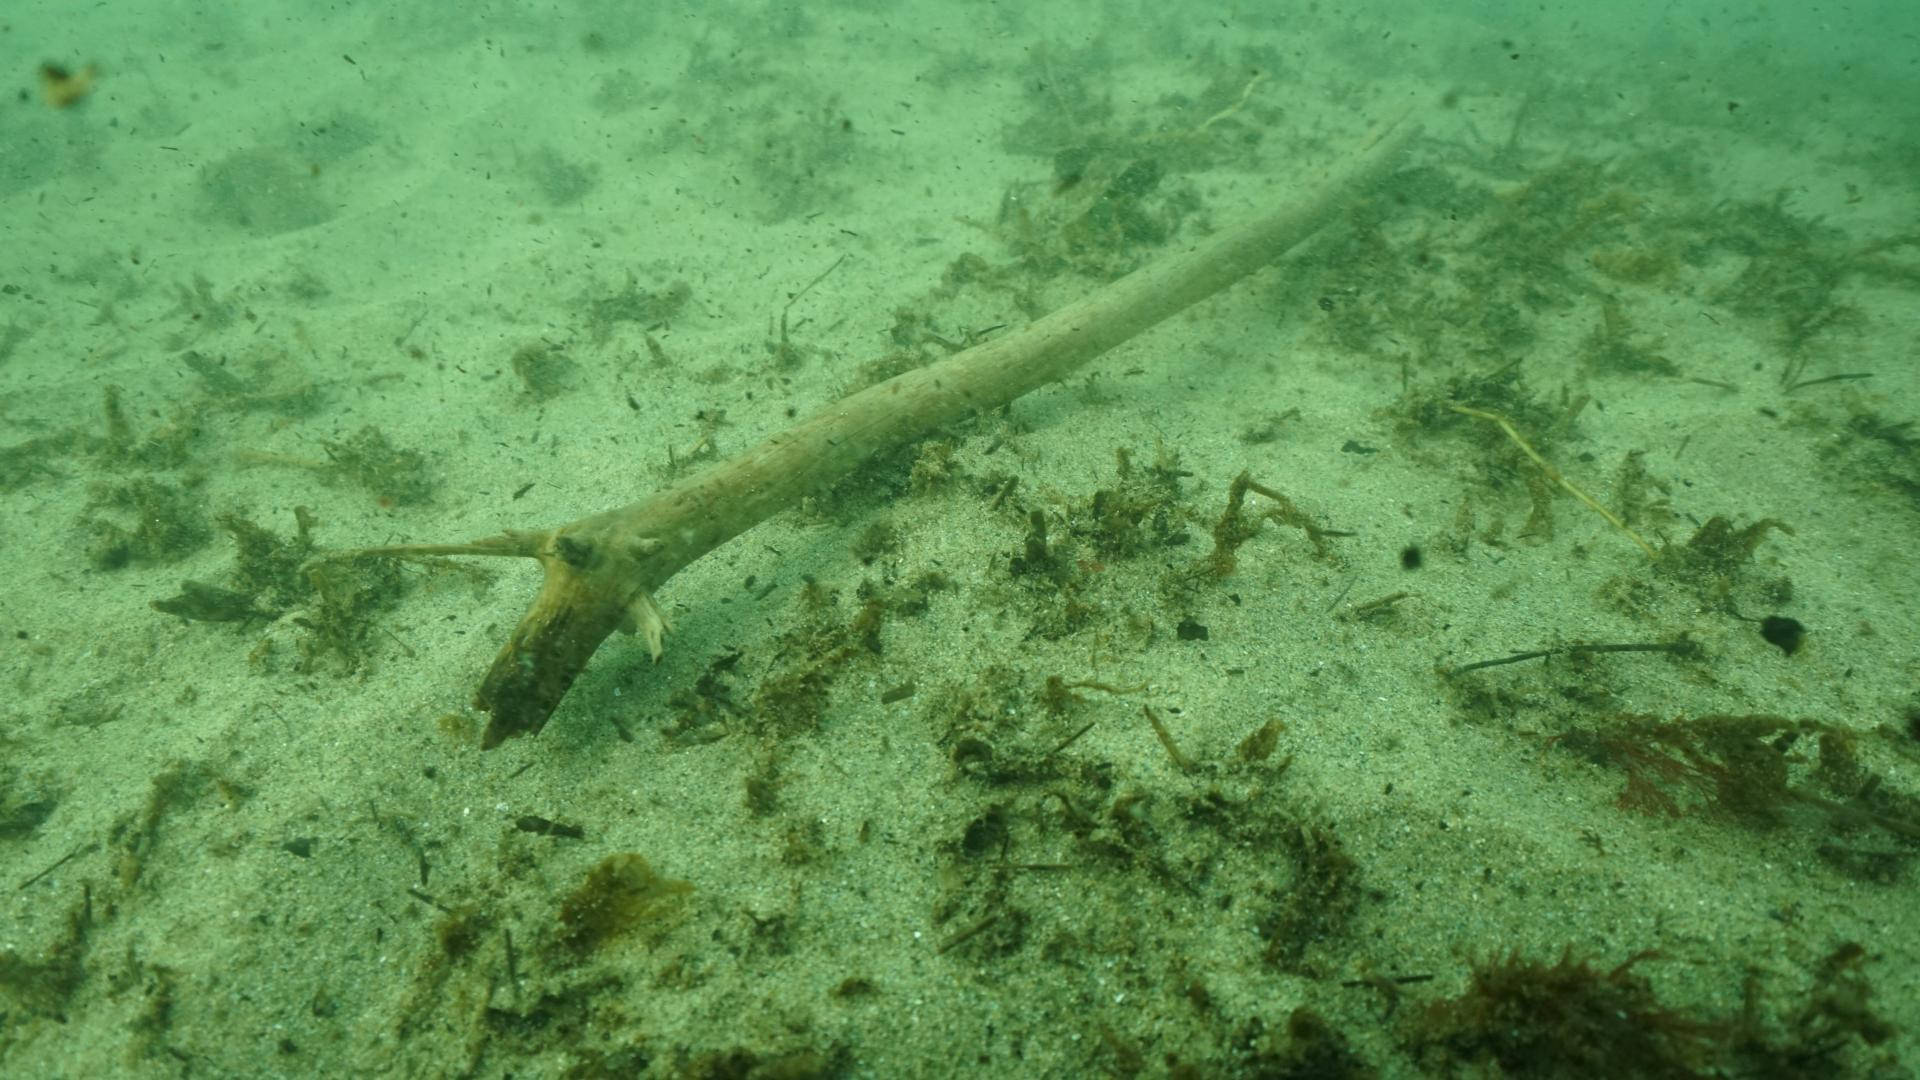wood: (291, 104, 1425, 748)
